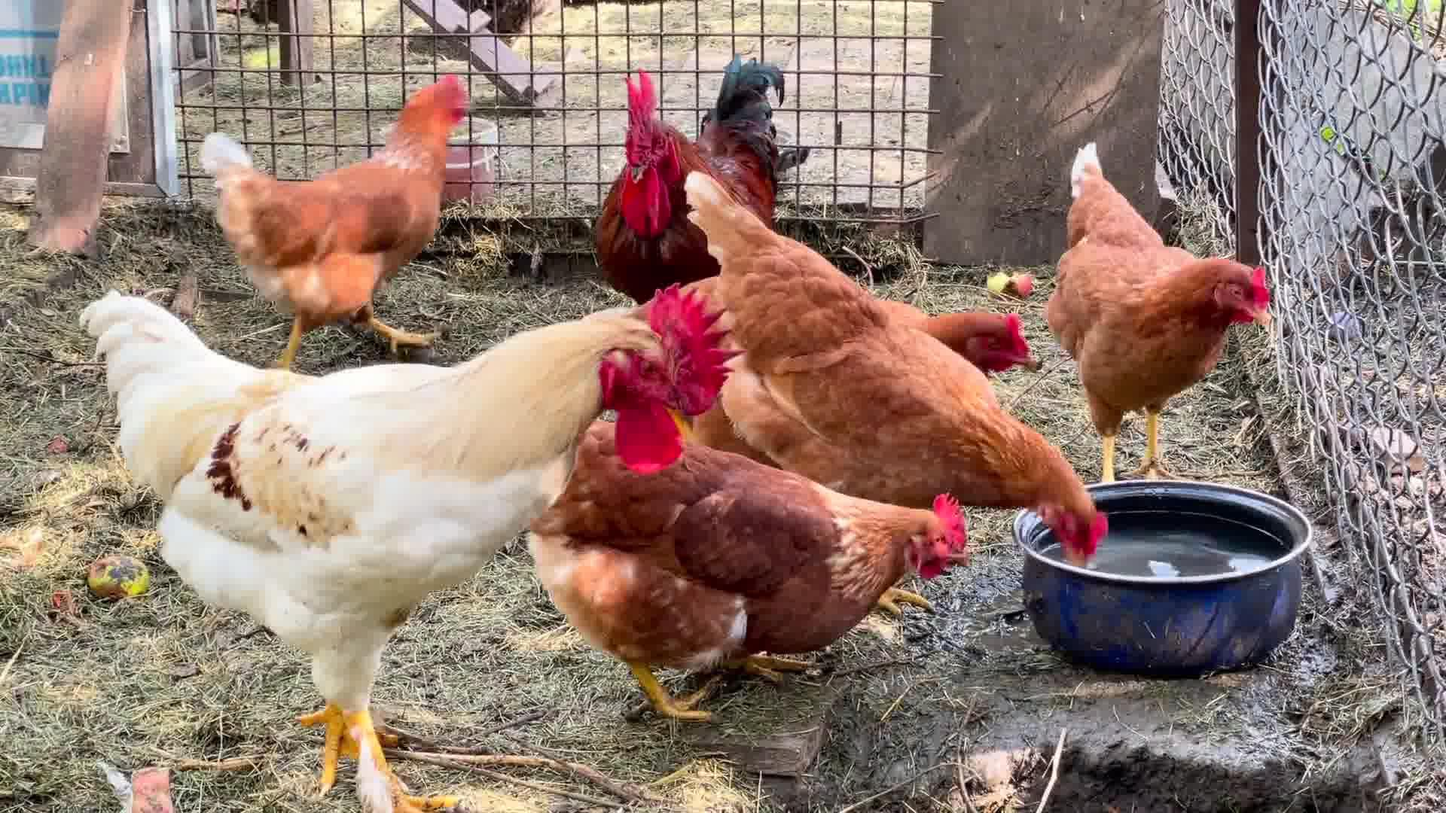Normal: (89, 288, 737, 813), (680, 172, 1120, 568), (573, 403, 974, 729), (170, 66, 504, 375), (1040, 142, 1284, 490), (577, 64, 835, 294), (919, 292, 1060, 396)
